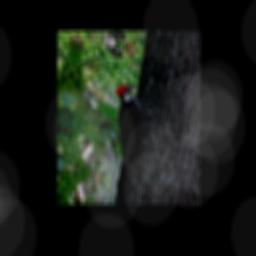Woodpecker: (100, 76, 156, 191)
